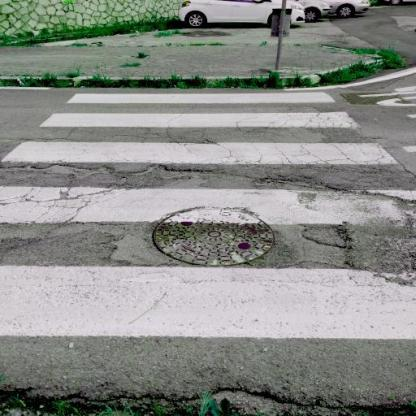crosswalk: (0, 183, 414, 347), (0, 109, 401, 170)
